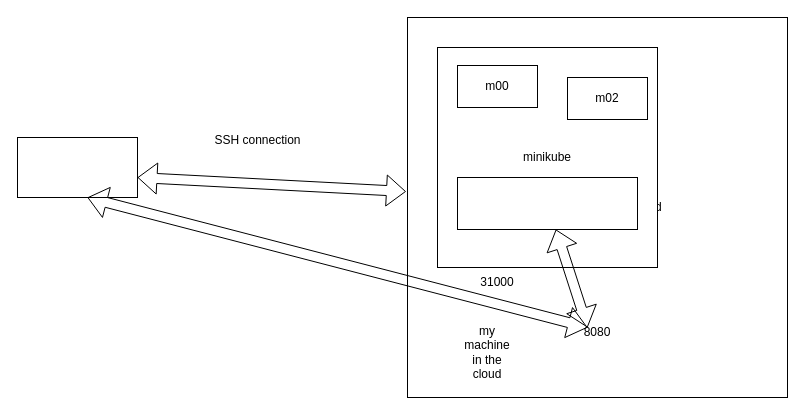
The diagram is 805 pixels wide and 415 high, and some of its shapes have lost their labels. The box of each missing label's shape, as (x1, y1, x2, y2) in pixels:
m01 Dashboard is here 9090: (456, 176, 638, 230)
my laptop: (16, 136, 138, 198)
